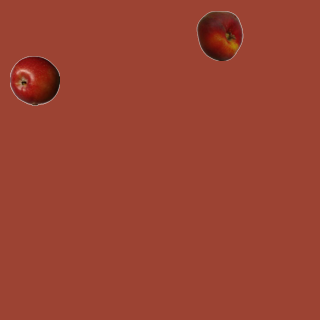Apple Braeburn: (9, 55, 59, 105)
Nectarine Flat: (194, 10, 244, 60)
